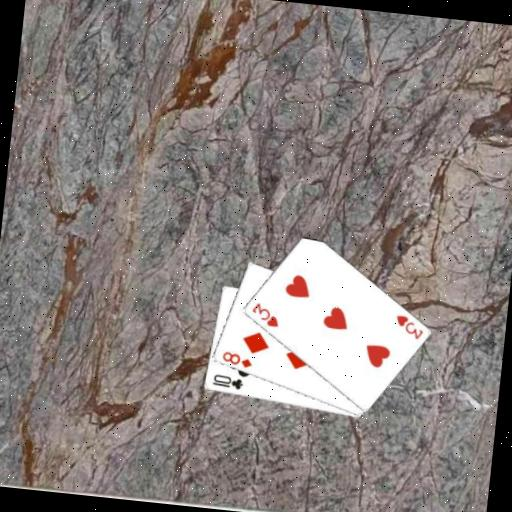10C: (209, 370, 246, 392)
3H: (247, 299, 282, 329), (391, 312, 426, 342)
8D: (218, 348, 255, 370)
